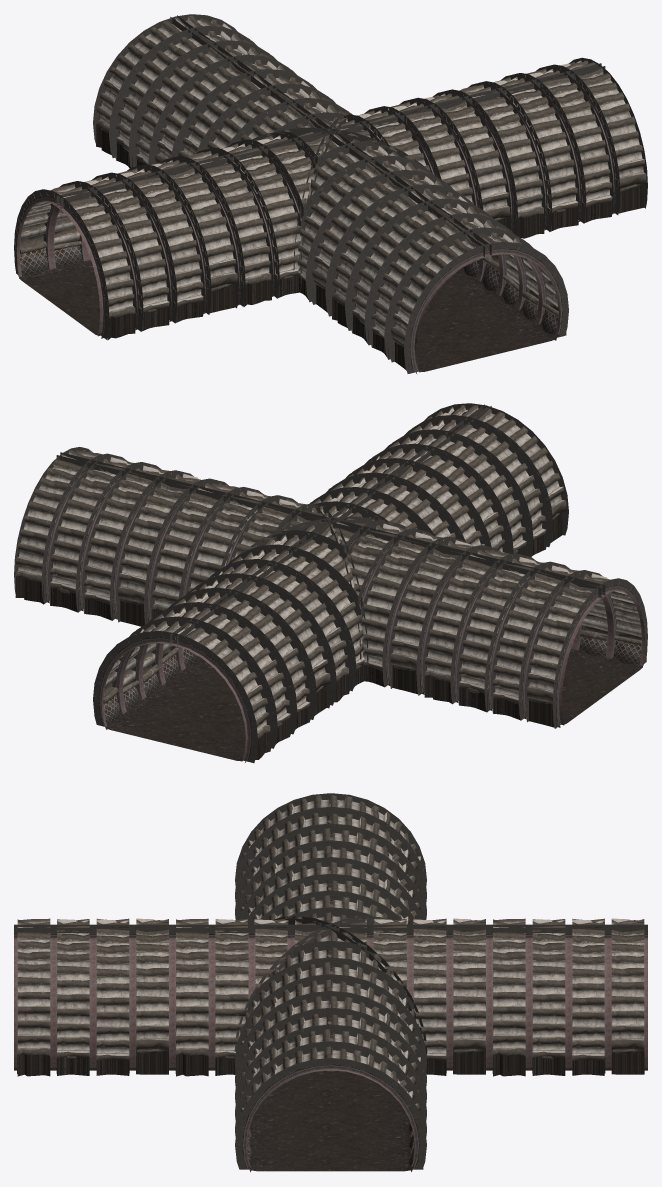
The model's file is tunnel_tile_1.dae.
The picture shows the model from 3 angles, top to bottom: view 1: azimuth 30°, elevation 25°; view 2: azimuth 150°, elevation 25°; view 3: azimuth 270°, elevation 25°; orthographic projection.
Visible parts, largest first — view 1: Walls, Ground, Chainlink, Wood; view 2: Walls, Ground, Chainlink, Wood; view 3: Walls, Ground.
Boxes of the visible parts, box(x1,y1,x2,y2) form: Walls: box(14, 14, 647, 373); Ground: box(17, 258, 558, 371); Chainlink: box(20, 185, 642, 374); Wood: box(20, 144, 640, 351); Walls: box(14, 403, 647, 762); Ground: box(48, 597, 644, 761); Chainlink: box(47, 594, 641, 762); Wood: box(57, 513, 641, 742); Walls: box(14, 793, 647, 1170); Ground: box(14, 1068, 647, 1171).
Bounding box in the file's own units: 20 × 20 × 3.99.
